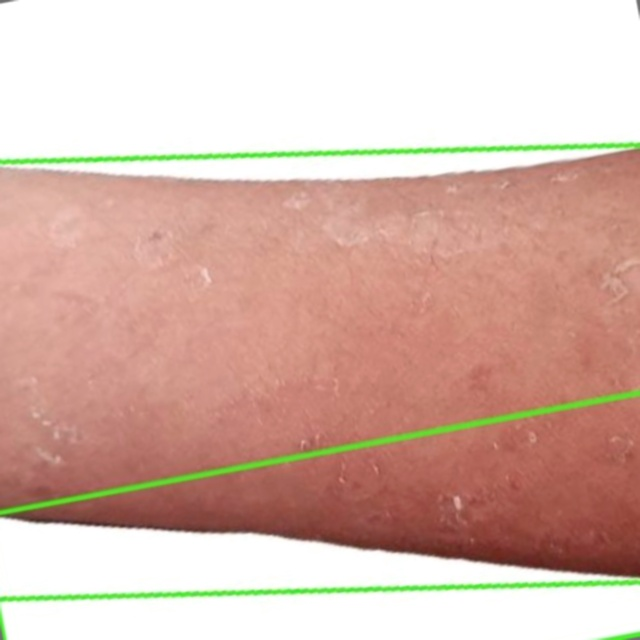Tinea Corporis: (0, 155, 639, 589), (0, 394, 639, 639)
